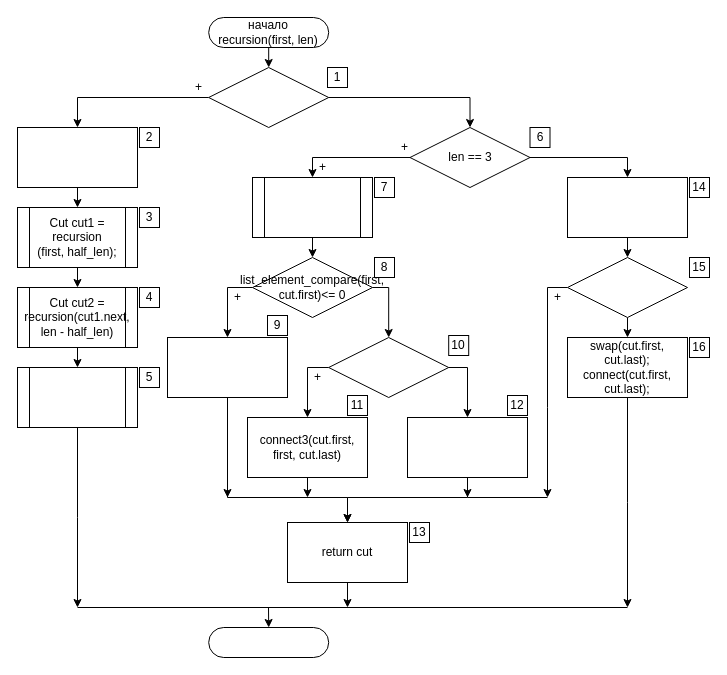
This 727x675 diagram has some shape labels left out. The shapes that lost their labels are listed below. From the top down, each one's centre as x and y in pixels, then its label:
point 268,97: len > 3
point 77,157: int half_len = len / 2;
point 312,207: Cut cut = recursion (first->NEXT, 2)
point 627,207: Cut cut = { first, first->NEXT }; cut.next = cut.last->NEXT
point 627,287: list_element_compare(cut.first, cut.last)> 0
point 227,367: connect(first, cut.first); cut.first = first
point 388,367: list_element_compare(first, cut.last)< 0
point 77,397: return merge(cut1,cut2)
point 467,447: connect(cut.last, first); cut.last = first
point 268,642: конец
